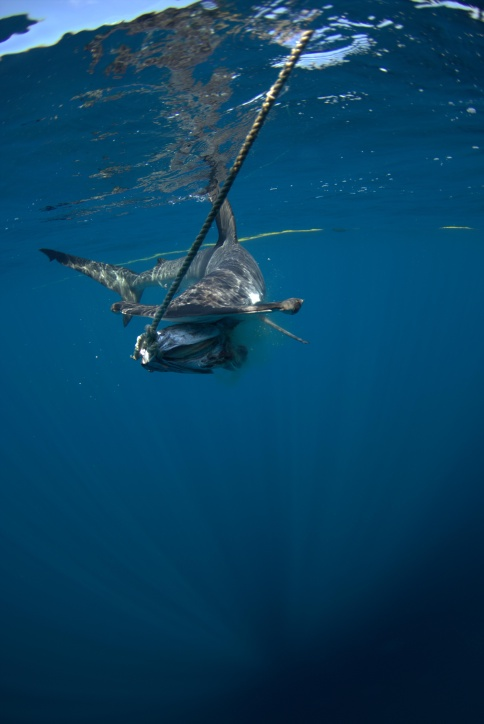Hammer: (11, 184, 417, 457)
